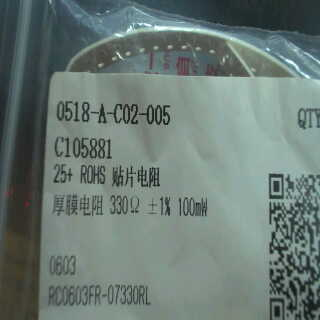330R: (106, 194, 143, 215)
